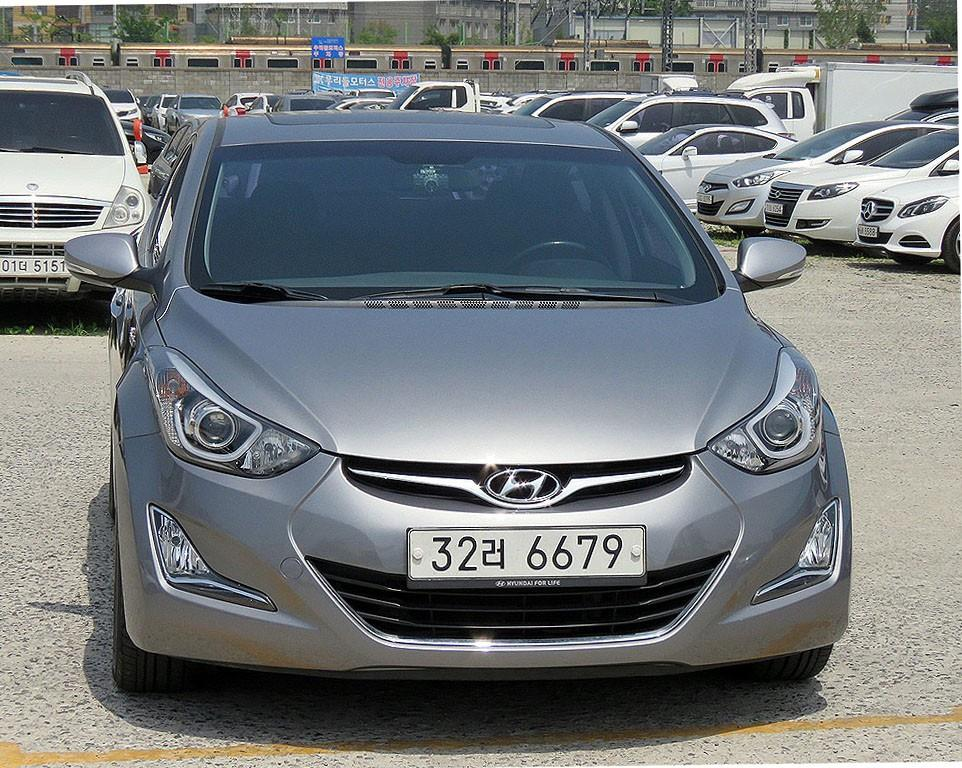plate: (406, 530, 644, 575)
